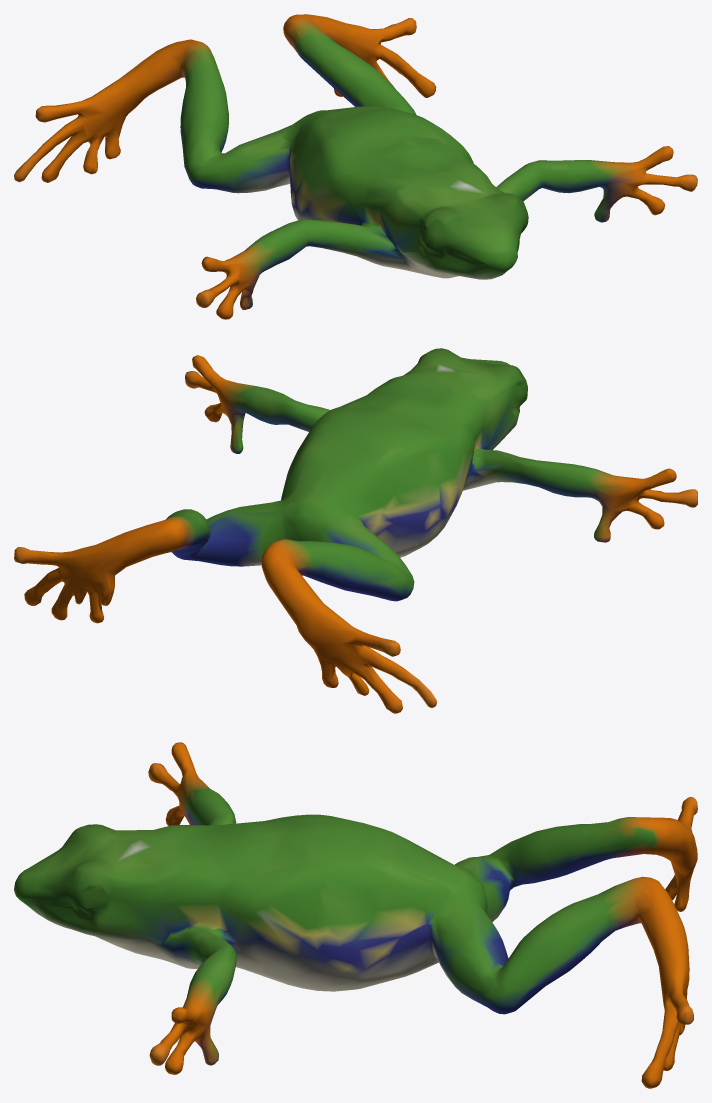
File: redeye.swim.lo.glb
The picture shows the model from 3 angles, top to bottom: view 1: azimuth 30°, elevation 25°; view 2: azimuth 150°, elevation 25°; view 3: azimuth 270°, elevation 25°; orthographic projection. The views are drawn at different scales.
Parts seen in each view (by area): view 1: redeye.swim; view 2: redeye.swim; view 3: redeye.swim.
Boxes of the visible parts, left/top/right/bottom form: redeye.swim: left=14, top=14, right=697, bottom=319; redeye.swim: left=14, top=348, right=697, bottom=713; redeye.swim: left=14, top=742, right=697, bottom=1088.
Size of the model in its own units: 0.0932 by 0.0234 by 0.0939.
